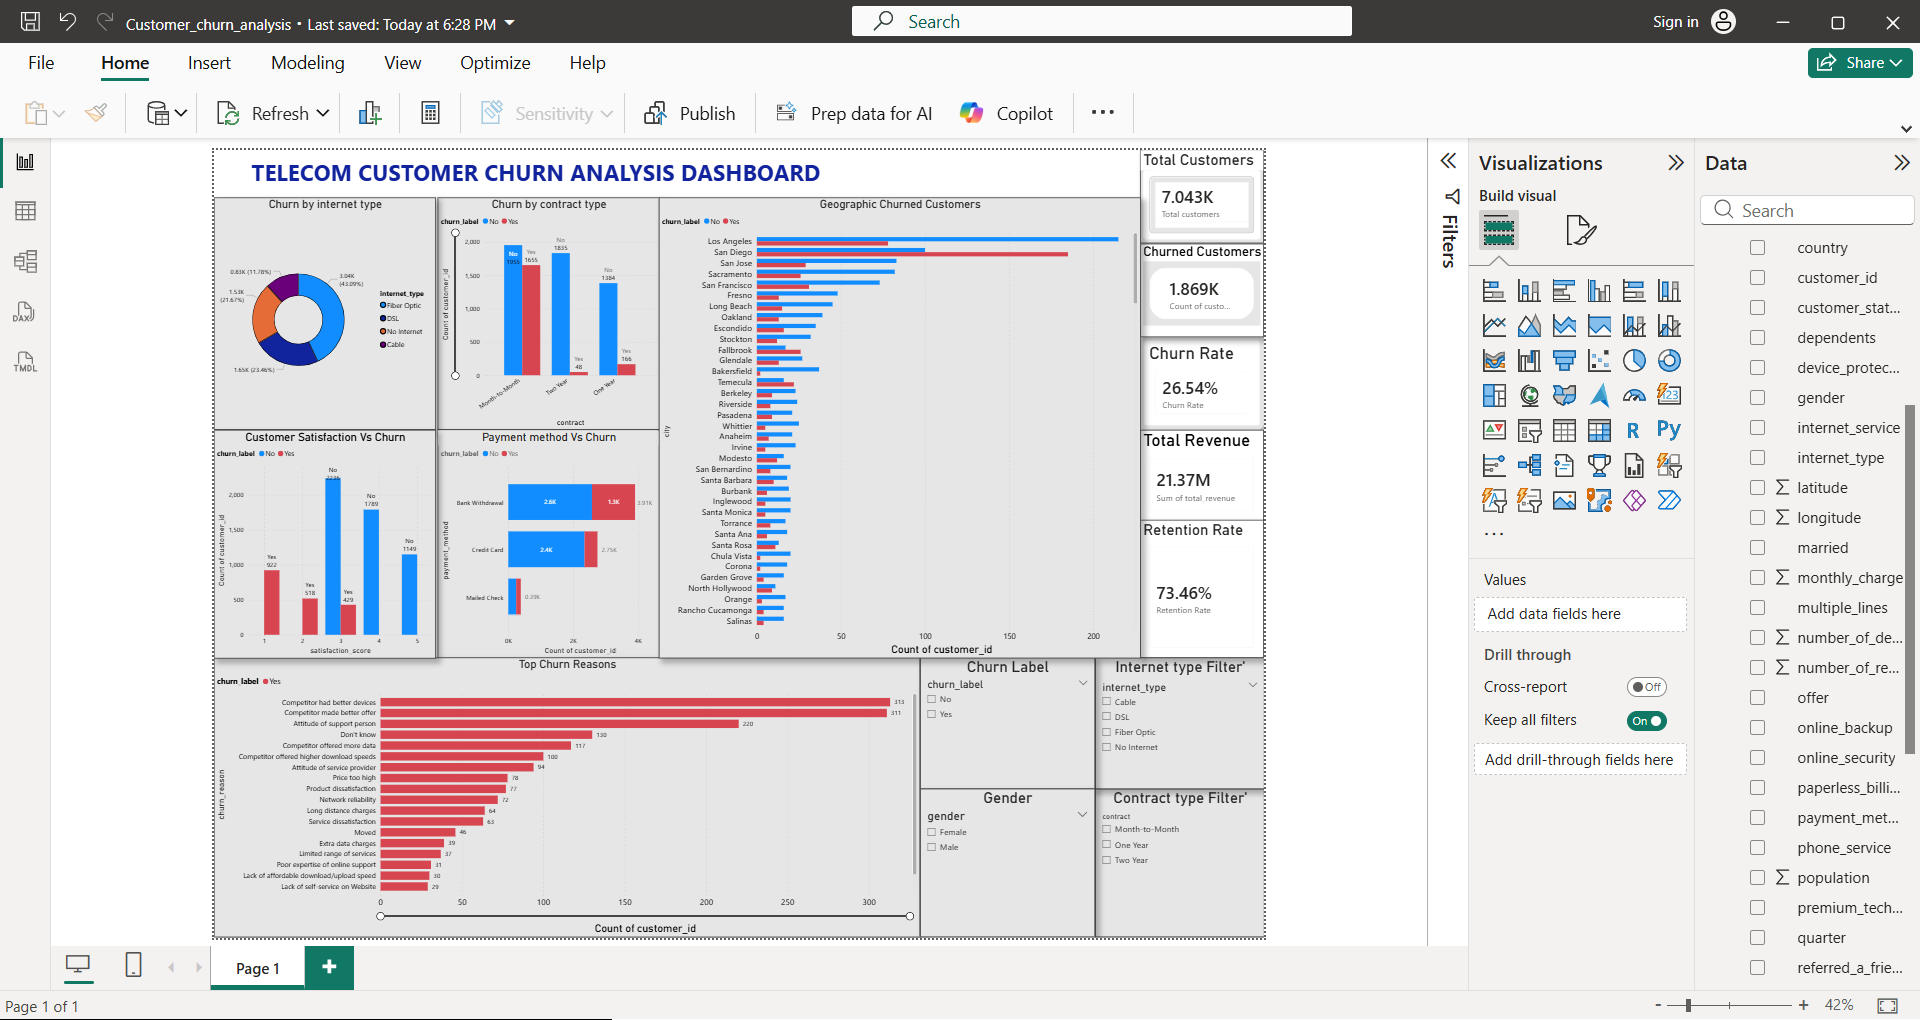

This screenshot's page, from the dashboard's own definition file:
{"tool":"powerbi","page":{"name":"Page 1","canvas":[2000,1500],"ordinal":0},"visuals":[{"type":"cardVisual","title":"Total Customers","fields":{"Data":["CountNonNull(cleaned_customer_churn.customer_id)"]},"box":[1765,0,235,177.5],"z":0},{"type":"cardVisual","title":"Churn Rate","fields":{"Data":["cleaned_customer_churn.Churn Rate"]},"box":[1765,355,235,177.5],"z":1000},{"type":"clusteredColumnChart","title":"Churn by contract type","fields":{"Category":["cleaned_customer_churn.contract"],"Y":["CountNonNull(cleaned_customer_churn.customer_id)"],"Series":["cleaned_customer_churn.churn_label"]},"box":[425,90,422.5,442.5],"z":2000},{"type":"donutChart","title":"Churn by internet type","fields":{"Category":["cleaned_customer_churn.internet_type"],"Y":["CountNonNull(cleaned_customer_churn.customer_id)"]},"box":[0,90,422.5,442.5],"z":3000},{"type":"barChart","title":"Payment method Vs Churn","fields":{"Category":["cleaned_customer_churn.payment_method"],"Y":["CountNonNull(cleaned_customer_churn.customer_id)"],"Series":["cleaned_customer_churn.churn_label"]},"box":[425,532.5,422.5,435],"z":4000},{"type":"clusteredBarChart","title":"Top Churn Reasons","fields":{"Category":["cleaned_customer_churn.churn_reason"],"Y":["CountNonNull(cleaned_customer_churn.customer_id)"],"Series":["cleaned_customer_churn.churn_label"]},"box":[0,967.5,1345,532.5],"z":5000},{"type":"clusteredColumnChart","title":"Customer Satisfaction Vs Churn","fields":{"Category":["cleaned_customer_churn.satisfaction_score"],"Y":["CountNonNull(cleaned_customer_churn.customer_id)"],"Series":["cleaned_customer_churn.churn_label"]},"box":[0,532.5,422.5,435],"z":6000},{"type":"cardVisual","title":"Churned Customers","fields":{"Data":["CountNonNull(cleaned_customer_churn.customer_id)"]},"box":[1765,177.5,235,177.5],"z":7000},{"type":"textbox","box":[0,6.2,1227.1,72.9],"z":8000},{"type":"slicer","title":"Contract type Filter''","fields":{"Values":["cleaned_customer_churn.contract"]},"box":[1677.5,1217.5,322.5,282.5],"z":10000},{"type":"slicer","title":"Internet type Filter''","fields":{"Values":["cleaned_customer_churn.internet_type"]},"box":[1677.5,967.5,322.5,250],"z":11000},{"type":"slicer","title":"Churn Label","fields":{"Values":["cleaned_customer_churn.churn_label"]},"box":[1345,967.5,332.5,250],"z":12000},{"type":"cardVisual","title":"Total Revenue","fields":{"Data":["Sum(cleaned_customer_churn.total_revenue)"]},"box":[1765,532.5,235,172.5],"z":13000},{"type":"cardVisual","title":"Retention Rate","fields":{"Data":["cleaned_customer_churn.Retention Rate"]},"box":[1765,705,235,262.5],"z":14000},{"type":"clusteredBarChart","title":"Geographic Churned Customers","fields":{"Category":["cleaned_customer_churn.city"],"Y":["CountNonNull(cleaned_customer_churn.customer_id)"],"Series":["cleaned_customer_churn.churn_label"]},"box":[847.6,90.5,916.7,876.2],"z":15000},{"type":"slicer","title":"Gender","fields":{"Values":["cleaned_customer_churn.gender"]},"box":[1345,1217.5,332.5,282.5],"z":15001}]}

Visuals, with their boxes on the page's 2000x1500 design canvas (x1, y1, x2, y2). These are canvas units, not pixel positions in the 1920x1020 screenshot, which may show the page scaled, cropped or inside an application window:
"Total Customers" cardVisual: x1=1765 y1=0 x2=2000 y2=178
"Churn Rate" cardVisual: x1=1765 y1=355 x2=2000 y2=532
"Churn by contract type" clusteredColumnChart: x1=425 y1=90 x2=848 y2=532
"Churn by internet type" donutChart: x1=0 y1=90 x2=422 y2=532
"Payment method Vs Churn" barChart: x1=425 y1=532 x2=848 y2=968
"Top Churn Reasons" clusteredBarChart: x1=0 y1=968 x2=1345 y2=1500
"Customer Satisfaction Vs Churn" clusteredColumnChart: x1=0 y1=532 x2=422 y2=968
"Churned Customers" cardVisual: x1=1765 y1=178 x2=2000 y2=355
textbox: x1=0 y1=6 x2=1227 y2=79
"Contract type Filter''" slicer: x1=1678 y1=1218 x2=2000 y2=1500
"Internet type Filter''" slicer: x1=1678 y1=968 x2=2000 y2=1218
"Churn Label" slicer: x1=1345 y1=968 x2=1678 y2=1218
"Total Revenue" cardVisual: x1=1765 y1=532 x2=2000 y2=705
"Retention Rate" cardVisual: x1=1765 y1=705 x2=2000 y2=968
"Geographic Churned Customers" clusteredBarChart: x1=848 y1=90 x2=1764 y2=967
"Gender" slicer: x1=1345 y1=1218 x2=1678 y2=1500
